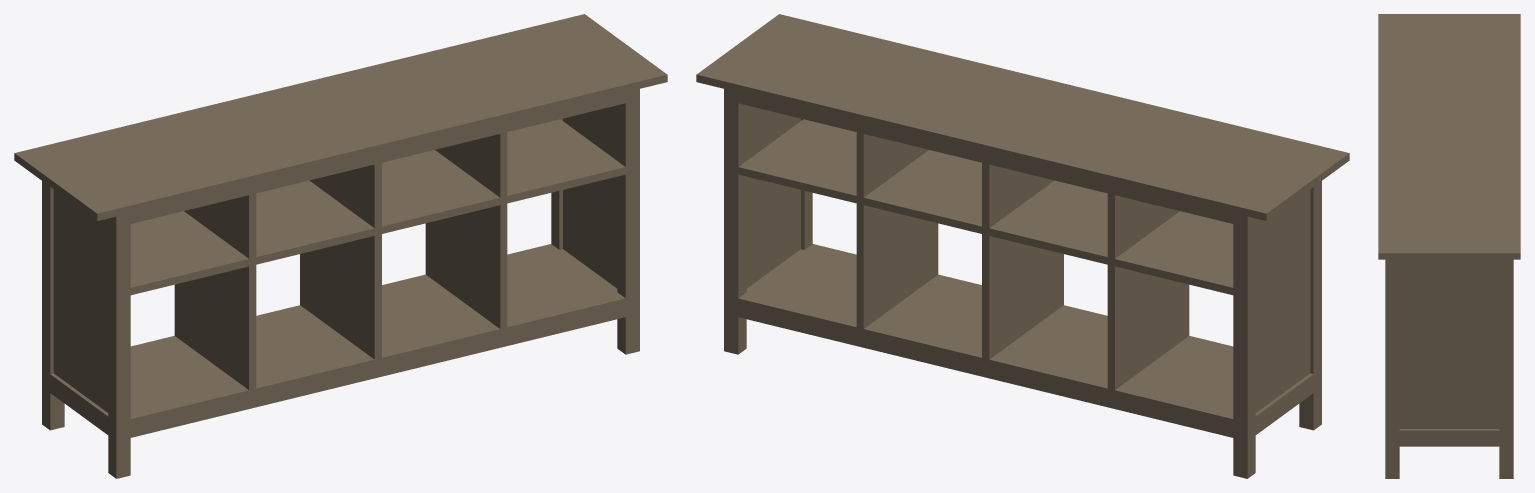
3 renders of one model, left to right at view 1: azimuth 30°, elevation 25°; view 2: azimuth 150°, elevation 25°; view 3: azimuth 270°, elevation 25°, orthographic. The views are drawn at different scales.
Visible parts, largest first — view 1: Mesh1 IKEA_HEMNES_sofa_table1 Model; view 2: Mesh1 IKEA_HEMNES_sofa_table1 Model; view 3: Mesh1 IKEA_HEMNES_sofa_table1 Model.
Boxes of the visible parts, x1,y1,x2,y2 form: Mesh1 IKEA_HEMNES_sofa_table1 Model: (14, 14, 667, 478); Mesh1 IKEA_HEMNES_sofa_table1 Model: (696, 14, 1349, 478); Mesh1 IKEA_HEMNES_sofa_table1 Model: (1378, 14, 1520, 478).
Bounding box in the file's own units: 0.8859 × 0.4067 × 0.2229.
